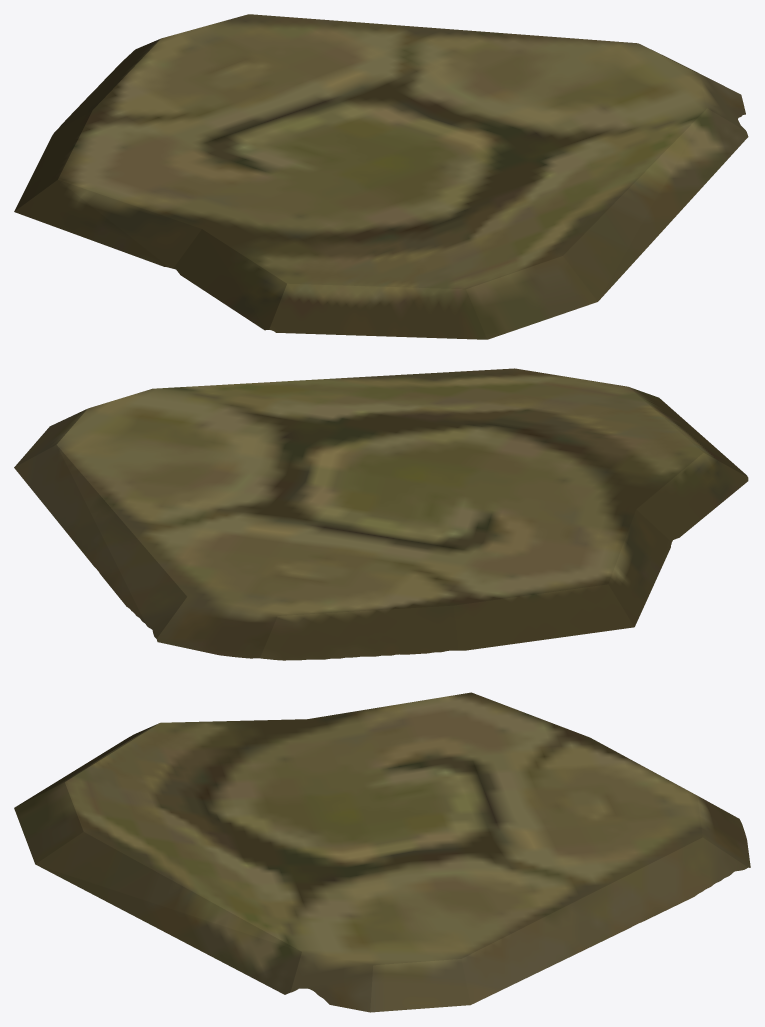
Rendered from paver_07.fbx.
The picture shows the model from 3 angles, top to bottom: view 1: azimuth 30°, elevation 25°; view 2: azimuth 150°, elevation 25°; view 3: azimuth 270°, elevation 25°; orthographic projection. The views are drawn at different scales.
Visible parts, largest first — view 1: obj0.184; view 2: obj0.184; view 3: obj0.184.
Part boxes in pixels (x1=…): obj0.184: x1=14, y1=14, x2=748, y2=339; obj0.184: x1=14, y1=368, x2=748, y2=660; obj0.184: x1=14, y1=692, x2=750, y2=1012.
Size of the model in its own units: 1.48 by 0.0629 by 1.49.
